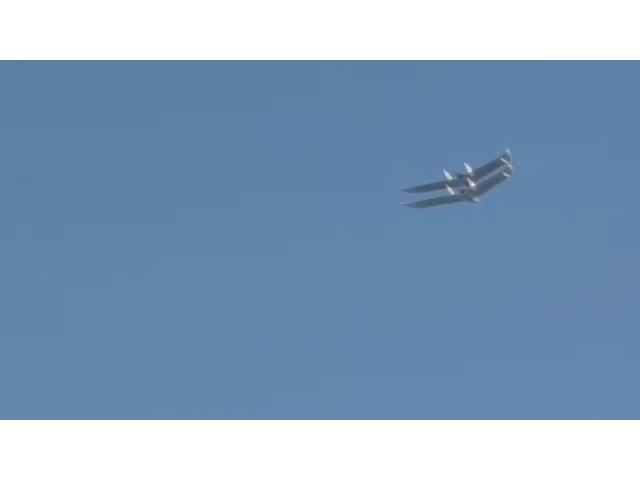Anti-Drone: (378, 134, 518, 214)
